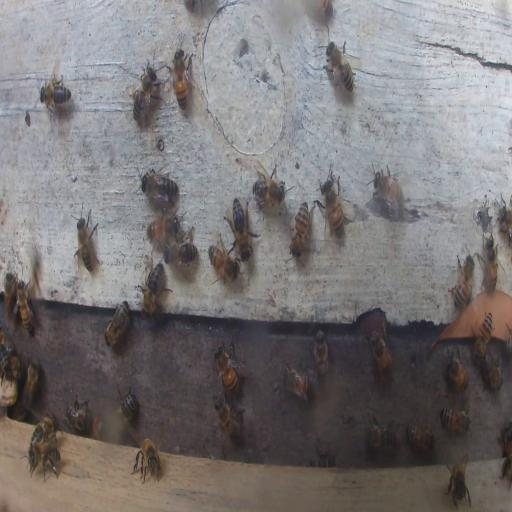nonpollenbee: (372, 161, 406, 222), (130, 63, 160, 125), (318, 170, 344, 239), (36, 70, 74, 116), (251, 161, 286, 210), (213, 343, 246, 394), (325, 42, 356, 95), (74, 210, 98, 276), (229, 198, 254, 260), (140, 261, 168, 313), (132, 436, 161, 484), (207, 241, 240, 282), (139, 169, 179, 202), (214, 395, 244, 439), (445, 457, 471, 507), (288, 202, 311, 258), (103, 299, 130, 346), (451, 255, 473, 311), (28, 440, 60, 478), (282, 361, 312, 400), (172, 48, 190, 112), (146, 212, 182, 244), (370, 328, 392, 380), (473, 310, 494, 364), (165, 235, 198, 268), (480, 234, 498, 294), (444, 350, 469, 390), (439, 404, 471, 435), (367, 416, 396, 450), (65, 393, 90, 432), (17, 280, 34, 337), (405, 423, 436, 452), (30, 412, 56, 445), (312, 330, 328, 382), (24, 357, 40, 404), (499, 430, 512, 482), (118, 387, 136, 423), (3, 271, 18, 312), (499, 197, 512, 242), (487, 356, 501, 390), (317, 4, 334, 24), (315, 447, 331, 467), (0, 327, 11, 356)
pollenbee: (92, 414, 110, 444)
